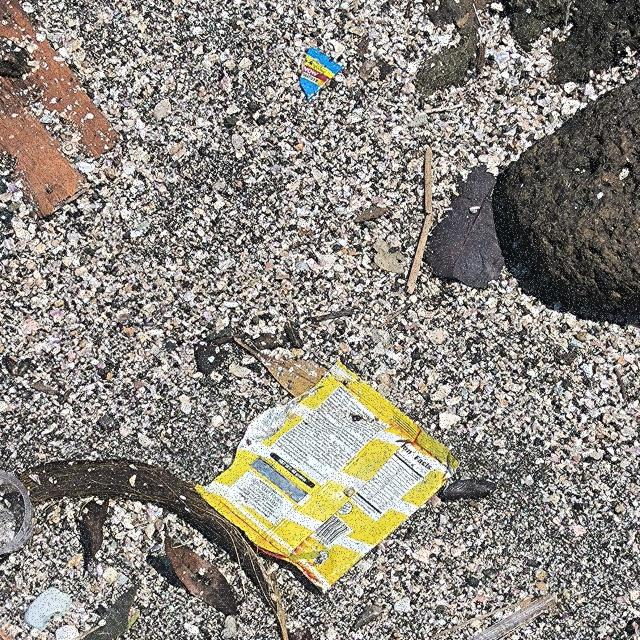plastic_waste: (194, 358, 463, 597), (302, 48, 346, 102)
